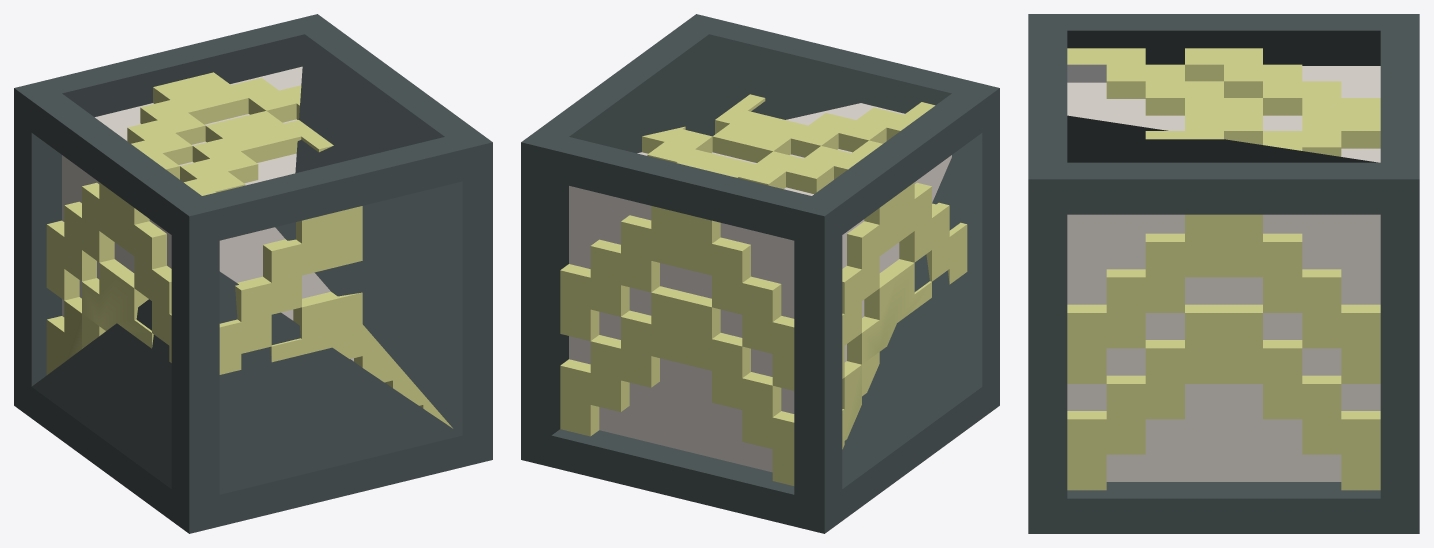
Rendered from SpeedUp.fbx.
3 views of the same model, side by side, from view 1: azimuth 30°, elevation 25°; view 2: azimuth 150°, elevation 25°; view 3: azimuth 270°, elevation 25° (orthographic). The views are drawn at different scales.
Visible parts, largest first — view 1: pasted__pCube2; view 2: pasted__pCube2; view 3: pasted__pCube2.
Part boxes in pixels (x1=…): pasted__pCube2: x1=14, y1=14, x2=492, y2=533; pasted__pCube2: x1=521, y1=14, x2=999, y2=533; pasted__pCube2: x1=1028, y1=14, x2=1419, y2=533.
Size of the model in its own units: 1 by 1 by 1.
